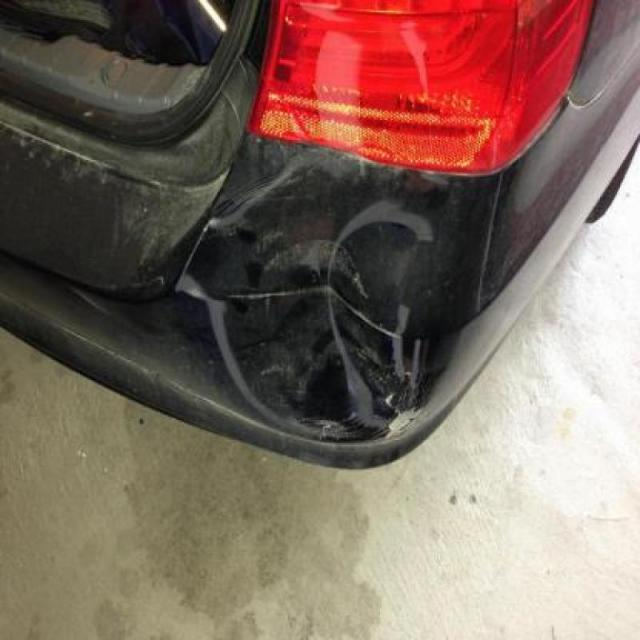car damage: (202, 184, 464, 449)
